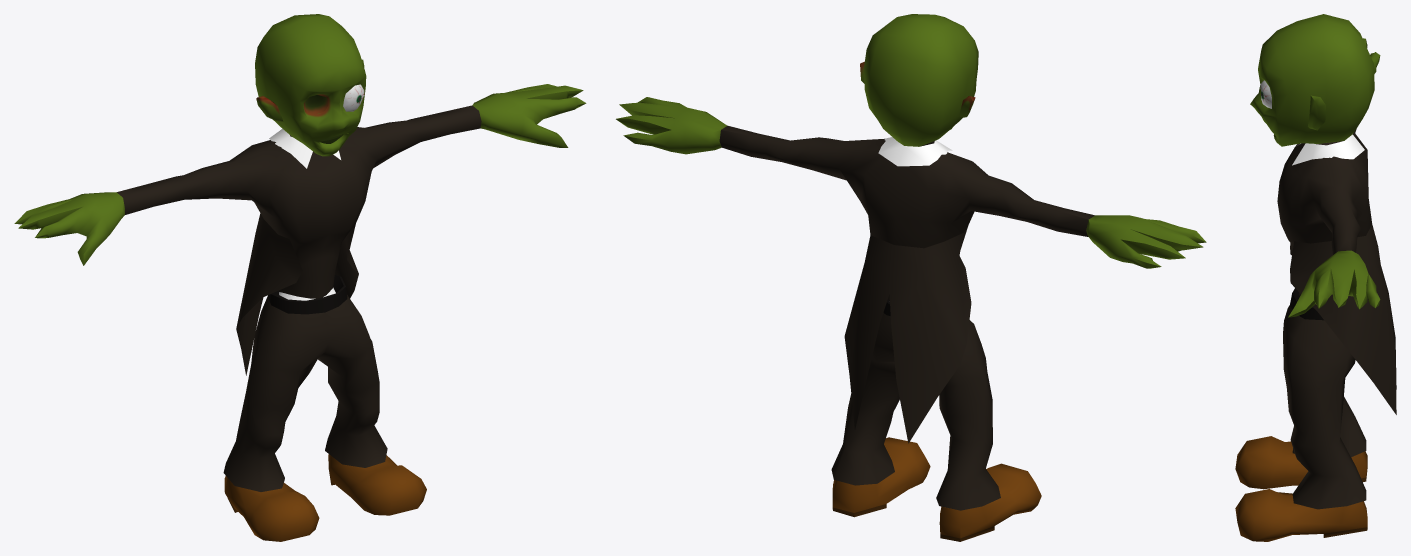
File: Zombies.fbx
3 views of the same model, side by side, from view 1: azimuth 30°, elevation 25°; view 2: azimuth 150°, elevation 25°; view 3: azimuth 270°, elevation 25° (orthographic). The views are drawn at different scales.
Parts seen in each view (by area): view 1: body, head, hand, polymsh_extracted2, eri; view 2: body, polymsh_extracted2, head, hand, eri; view 3: body, head, polymsh_extracted2, hand, eri, ear.
Boxes of the visible parts, x1=… form: body: x1=117, y1=105, x2=481, y2=541; head: x1=255, y1=14, x2=366, y2=156; hand: x1=14, y1=84, x2=586, y2=265; polymsh_extracted2: x1=236, y1=213, x2=358, y2=375; eri: x1=269, y1=129, x2=340, y2=168; body: x1=719, y1=125, x2=1094, y2=541; polymsh_extracted2: x1=844, y1=225, x2=971, y2=443; head: x1=864, y1=14, x2=978, y2=146; hand: x1=616, y1=97, x2=1206, y2=268; eri: x1=878, y1=137, x2=952, y2=166; body: x1=1235, y1=129, x2=1372, y2=541; head: x1=1250, y1=14, x2=1374, y2=146; polymsh_extracted2: x1=1290, y1=224, x2=1396, y2=414; hand: x1=1288, y1=38, x2=1380, y2=317; eri: x1=1292, y1=134, x2=1364, y2=165; ear: x1=1308, y1=95, x2=1325, y2=130.
Size of the model in its own units: 40.48 by 32.6 by 9.9.
1 material, 1 textured.
